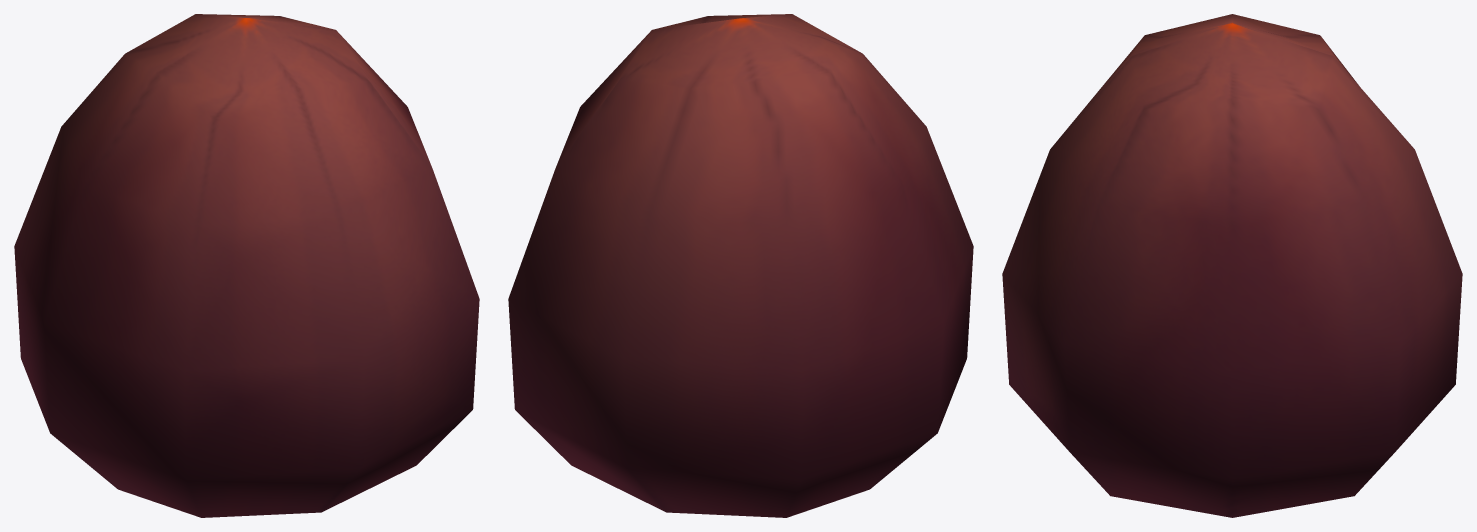
File: mandacaru_fruto.fbx
The picture shows the model from 3 angles, left to right: view 1: azimuth 30°, elevation 25°; view 2: azimuth 150°, elevation 25°; view 3: azimuth 270°, elevation 25°; orthographic projection.
Visible parts, largest first — view 1: Cube.007; view 2: Cube.007; view 3: Cube.007.
Boxes of the visible parts, box(x1,y1,x2,y2) form: Cube.007: box(14, 14, 479, 517); Cube.007: box(508, 14, 973, 517); Cube.007: box(1002, 14, 1462, 517).
Bounding box in the file's own units: 219 × 239 × 219.
